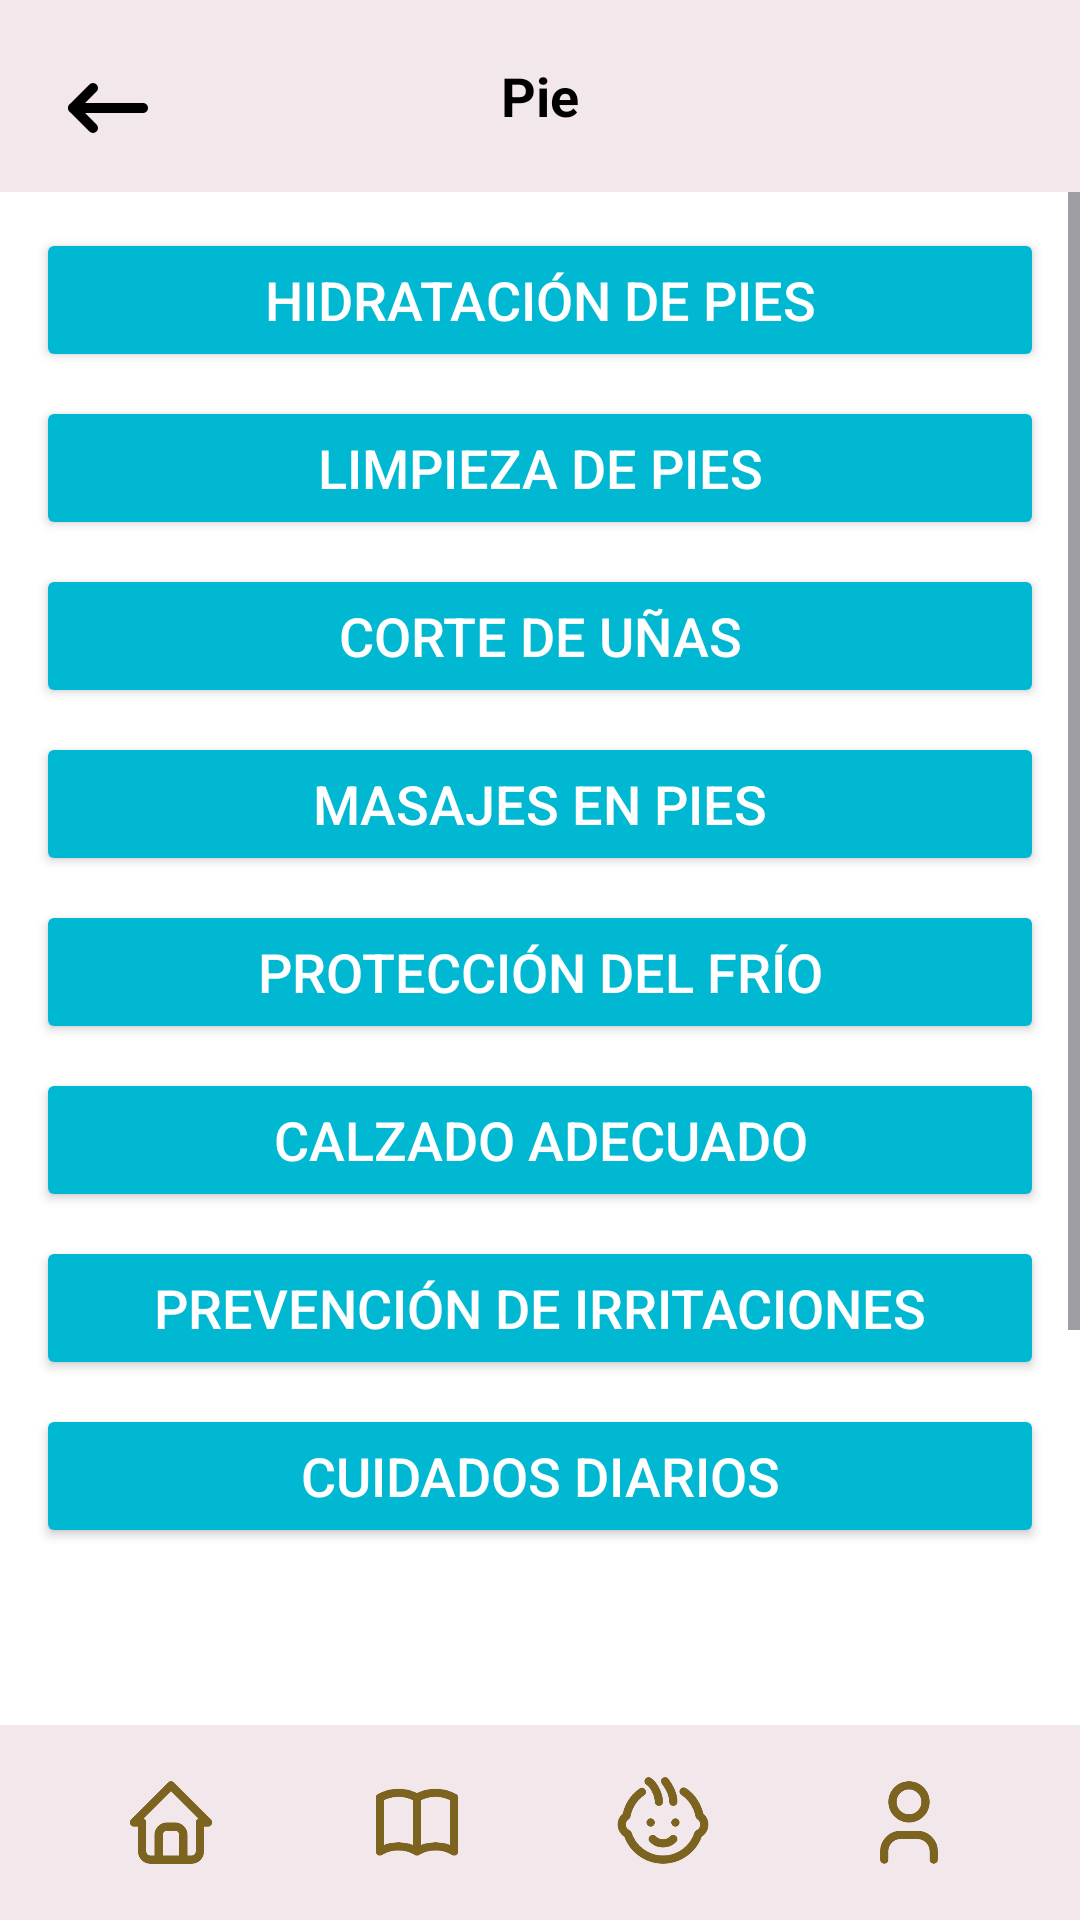

Named icons in this screenshot (1080 × 1920) and their centers, [x,y]:
book: [417,1822]
home: [171,1822]
moodboy: [663,1820]
personaa: [909,1822]
